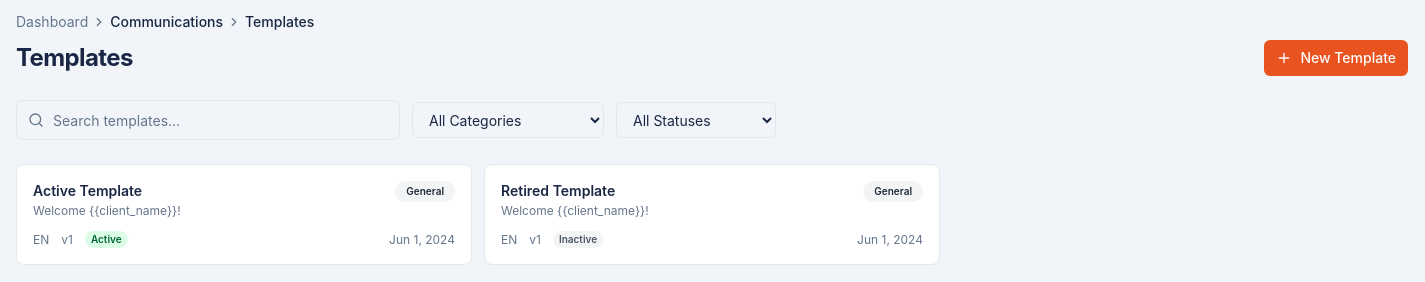
Test: TemplatesView › filters by active status
Select "Active" in the dropdown named "Filter by status" at (696, 120), box [616,102,776,138]
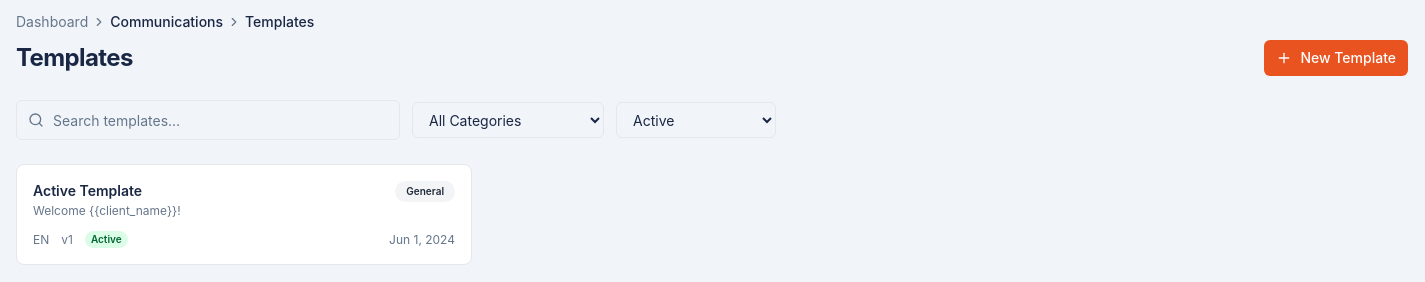
Check: the heading "Active Template" is shown, box [33,182,142,199]
Check: the button "Retired Template" is gone
